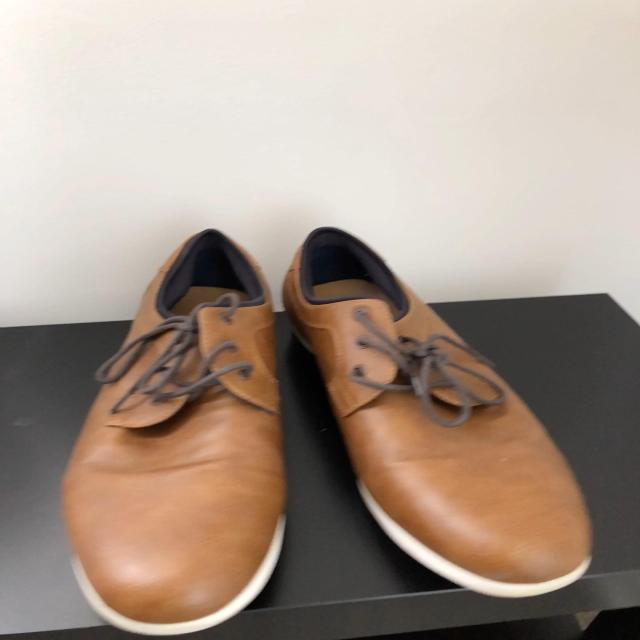shoe: (282, 228, 590, 594), (60, 230, 288, 640)
